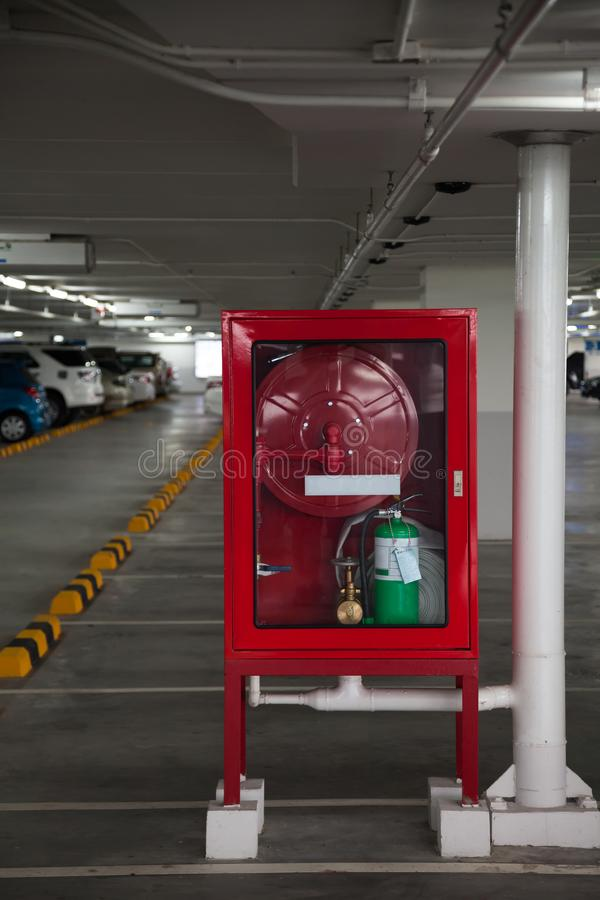fire_extinguisher: (331, 492, 430, 627)
